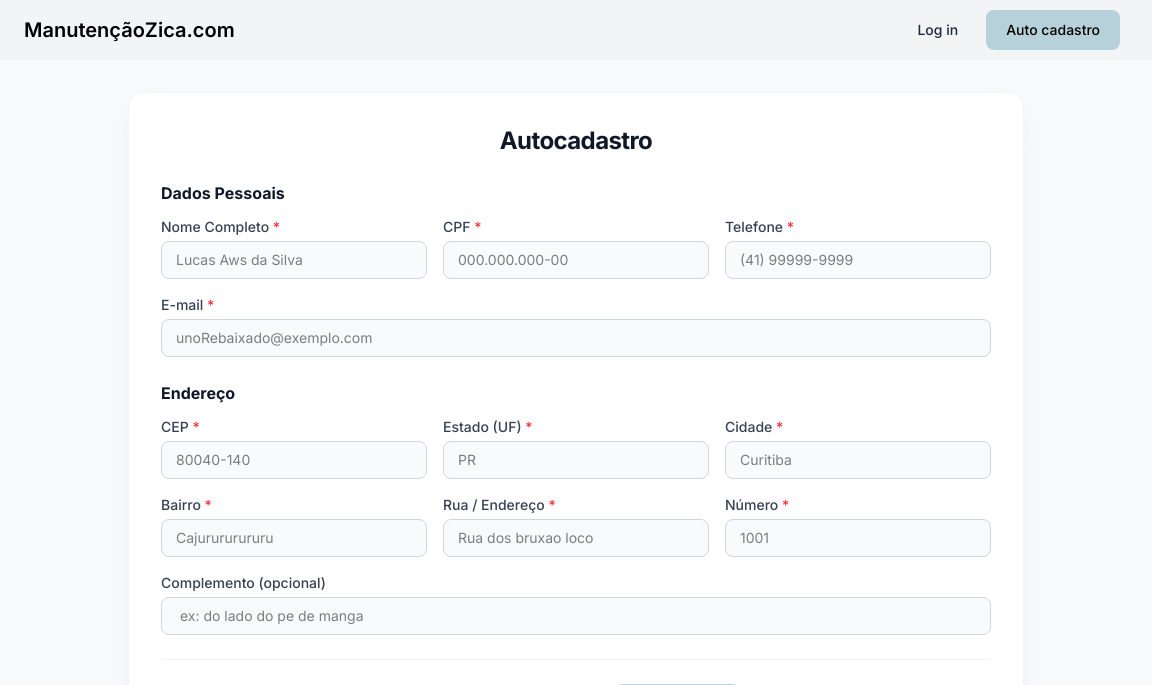
Test: SelfRegister › should ask for at least 3 characters in the name
Type "ab" into the field labelled "Nome Completo *". click: (294, 260)
box: [161,241,427,279]
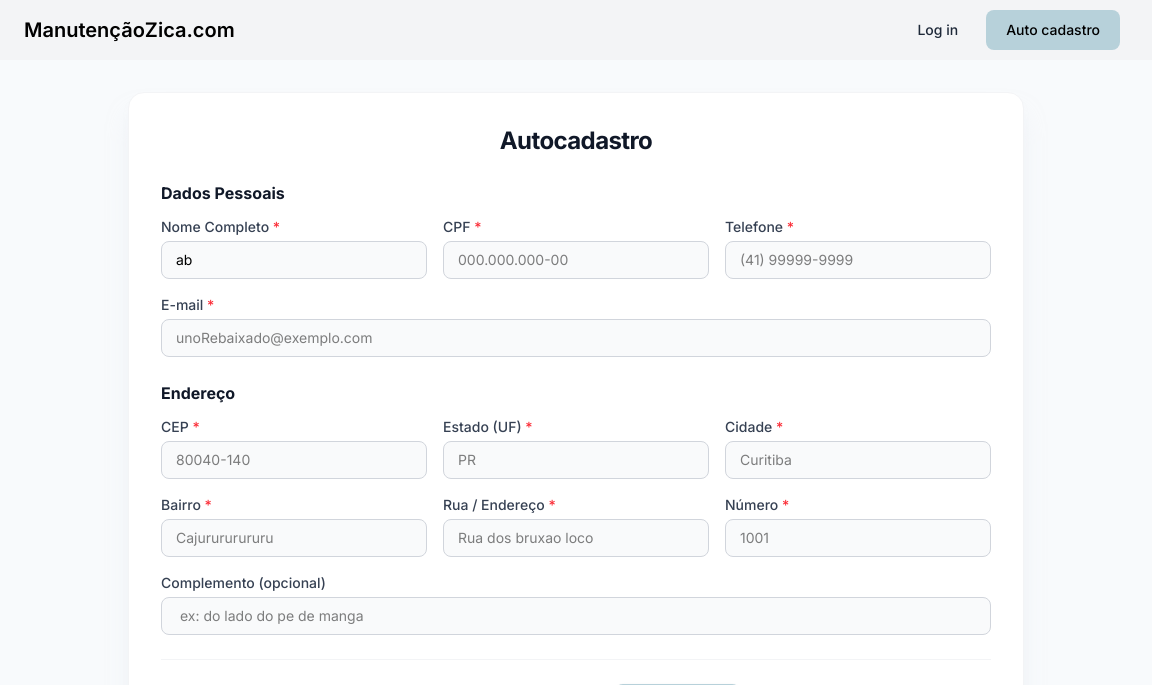
Leave the field labelled "Nome Completo *", box [161,241,427,279]
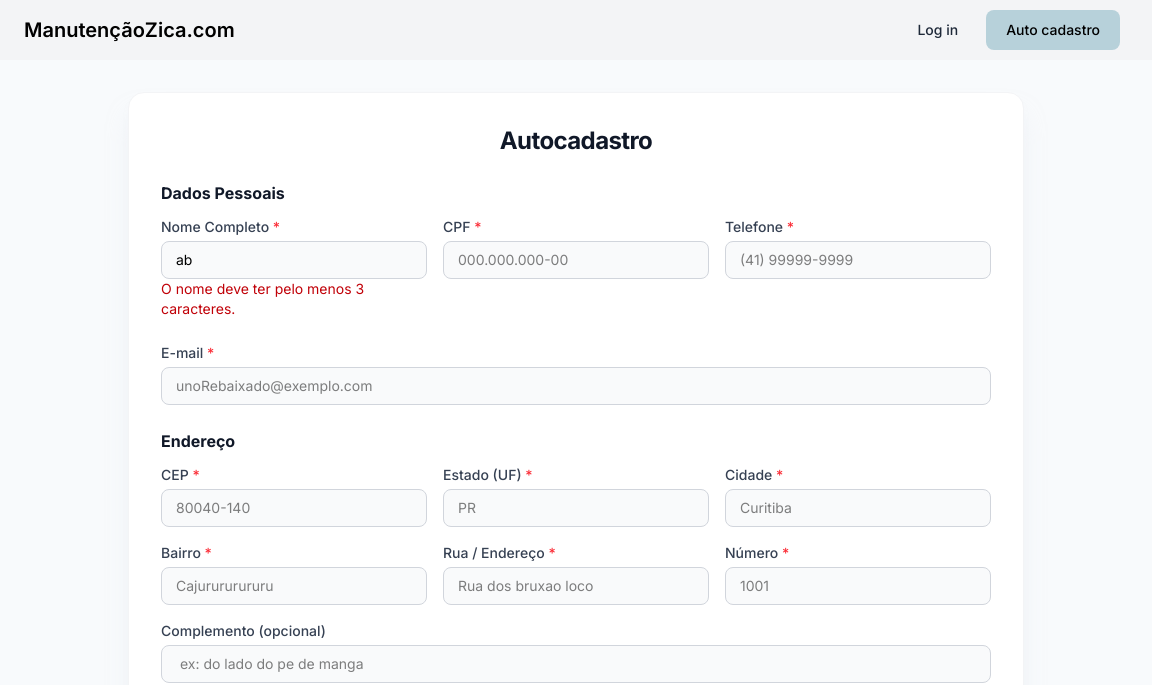
Expected: the text "O nome deve ter pelo menos 3 caracteres." is shown, [161,280,364,317]
